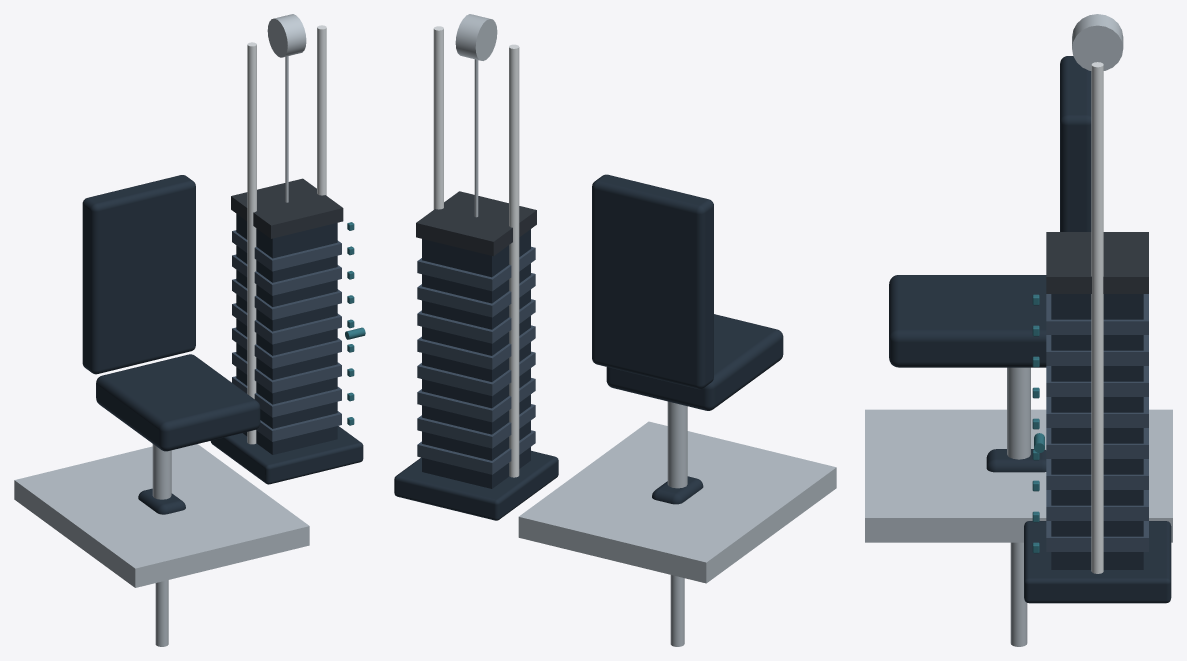
Rendered from seated_calf.glb.
The picture shows the model from 3 angles, left to right: view 1: azimuth 30°, elevation 25°; view 2: azimuth 150°, elevation 25°; view 3: azimuth 270°, elevation 25°; orthographic projection. The views are drawn at different scales.
Parts seen in each view (by area): view 1: base, back, weightPlate (×8), stack, seat, guide (×2), stackBase, stackLift, loadPulley, post, LlegLink, LkneePad (+1 smaller); view 2: base, back, weightPlate (×8), stack, seat, guide (×2), stackBase, stackLift, post, loadPulley, LlegLink, LkneePad (+1 smaller); view 3: base, seat, weightPlate (×8), stack, stackBase, guide, stackLift, back, loadPulley, post, LlegLink, LkneePad.
Boxes of the visible parts, bbox=[...] form: base: bbox=[14, 444, 309, 587]; back: bbox=[82, 175, 195, 374]; weightPlate (×8): bbox=[232, 230, 341, 441]; stack: bbox=[236, 214, 337, 454]; seat: bbox=[96, 354, 260, 451]; guide (×2): bbox=[247, 25, 326, 444]; stackBase: bbox=[210, 426, 363, 484]; stackLift: bbox=[231, 178, 343, 238]; loadPulley: bbox=[267, 14, 306, 57]; post: bbox=[152, 444, 171, 499]; LlegLink: bbox=[155, 580, 168, 646]; LkneePad: bbox=[138, 488, 185, 514]; base: bbox=[518, 421, 836, 583]; back: bbox=[592, 174, 713, 389]; weightPlate (×8): bbox=[417, 246, 535, 474]; stack: bbox=[422, 229, 530, 488]; seat: bbox=[606, 314, 783, 410]; guide (×2): bbox=[433, 26, 519, 477]; stackBase: bbox=[394, 450, 558, 520]; stackLift: bbox=[416, 191, 536, 256]; post: bbox=[667, 401, 687, 488]; loadPulley: bbox=[455, 14, 497, 60]; LlegLink: bbox=[670, 575, 684, 646]; LkneePad: bbox=[652, 476, 703, 504]; base: bbox=[865, 409, 1172, 542]; seat: bbox=[889, 275, 1046, 367]; weightPlate (×8): bbox=[1046, 294, 1148, 551]; stack: bbox=[1051, 294, 1143, 569]; stackBase: bbox=[1024, 521, 1171, 603]; guide: bbox=[1091, 62, 1103, 573]; stackLift: bbox=[1046, 232, 1148, 293]; back: bbox=[1060, 56, 1091, 231]; loadPulley: bbox=[1072, 14, 1123, 70]; post: bbox=[1007, 367, 1030, 459]; LlegLink: bbox=[1010, 542, 1027, 646]; LkneePad: bbox=[986, 449, 1046, 472].
Bounding box in the file's own units: 1.28 × 2.33 × 0.9.
